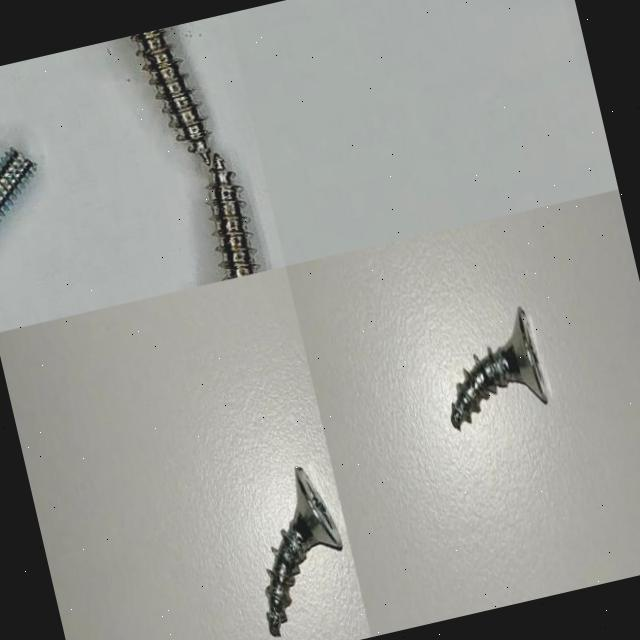Screw: (265, 466, 342, 635), (450, 306, 547, 429), (133, 28, 212, 163), (209, 153, 257, 280), (0, 149, 35, 218)
